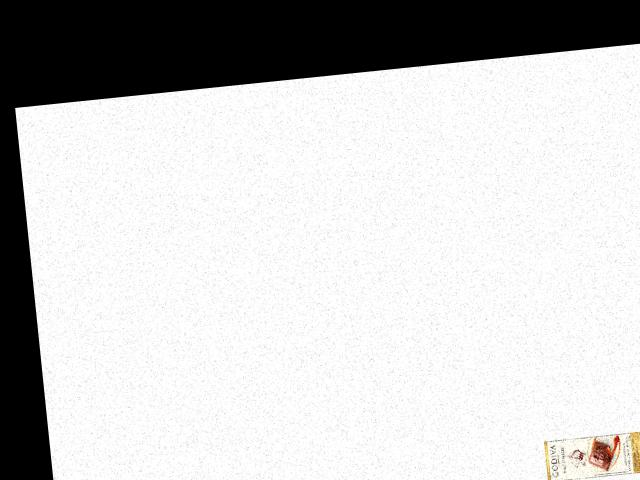chocolate: (541, 427, 640, 480)
